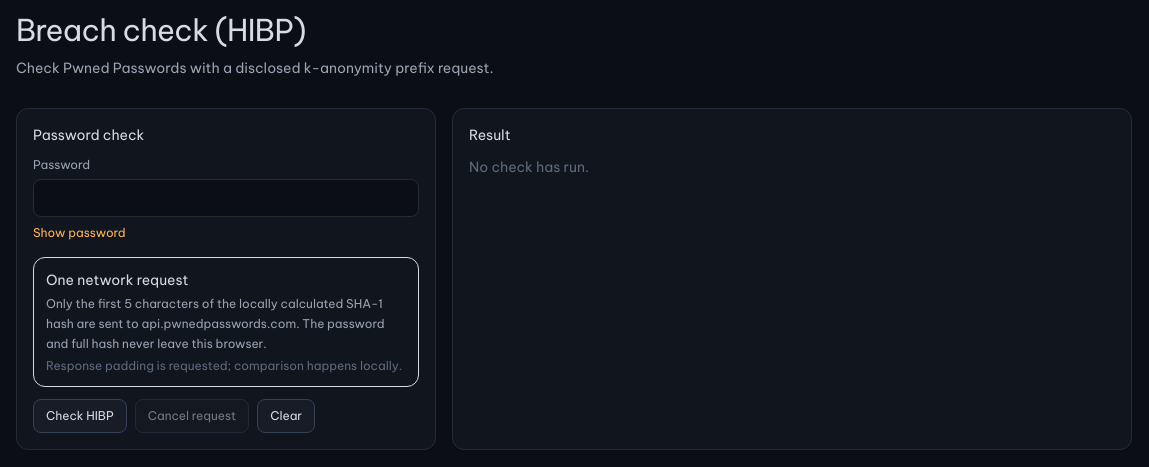
Test: HIBP breach checker › waits for explicit activation and sends only a padded SHA-1 prefix
The image size is (1149, 467).
In the password field labelled "Password": (226, 198) left=33, top=179, right=419, bottom=217, type "password"
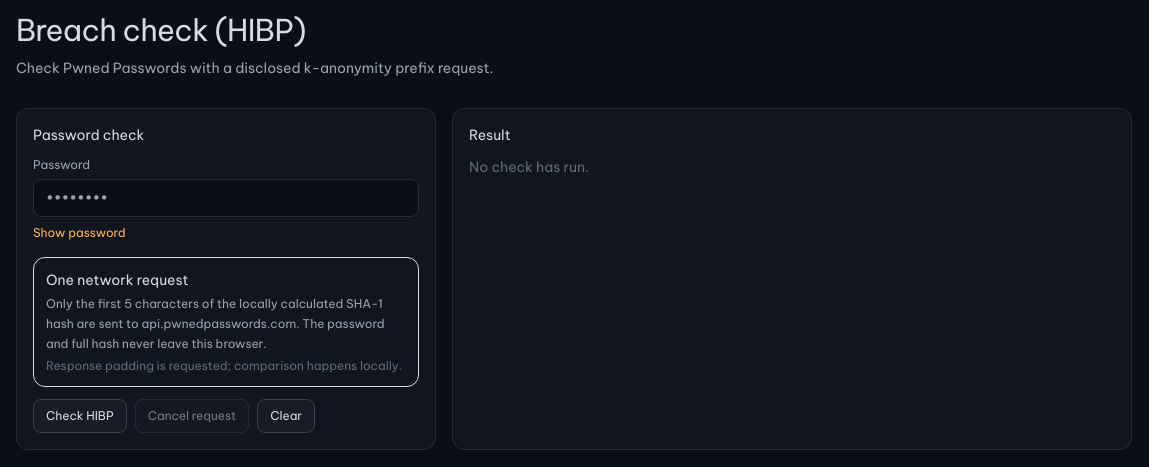
Click the button "Check HIBP": (80, 416) left=33, top=399, right=127, bottom=433
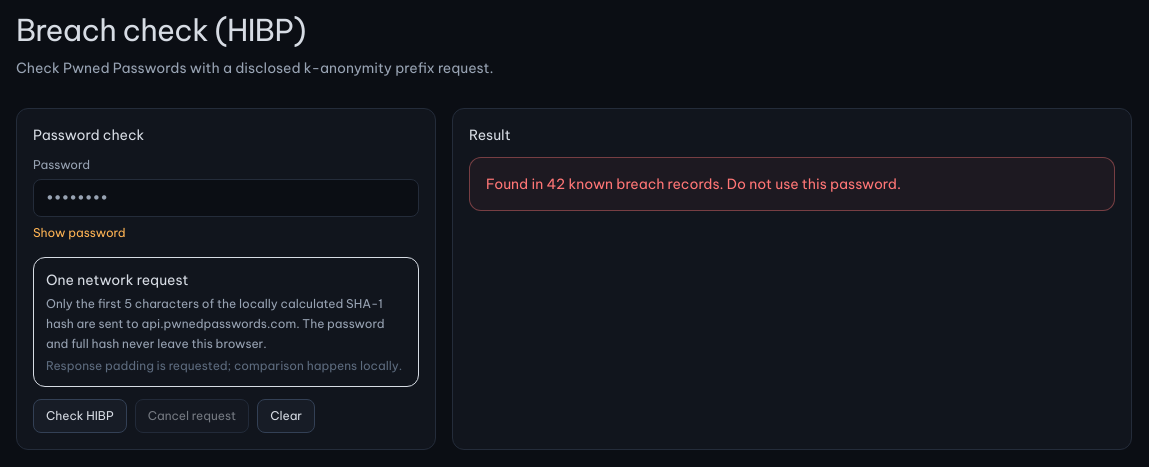
Check: the text "Found in 42 known breach records. Do not use this password." is shown, box left=469, top=157, right=1115, bottom=211
